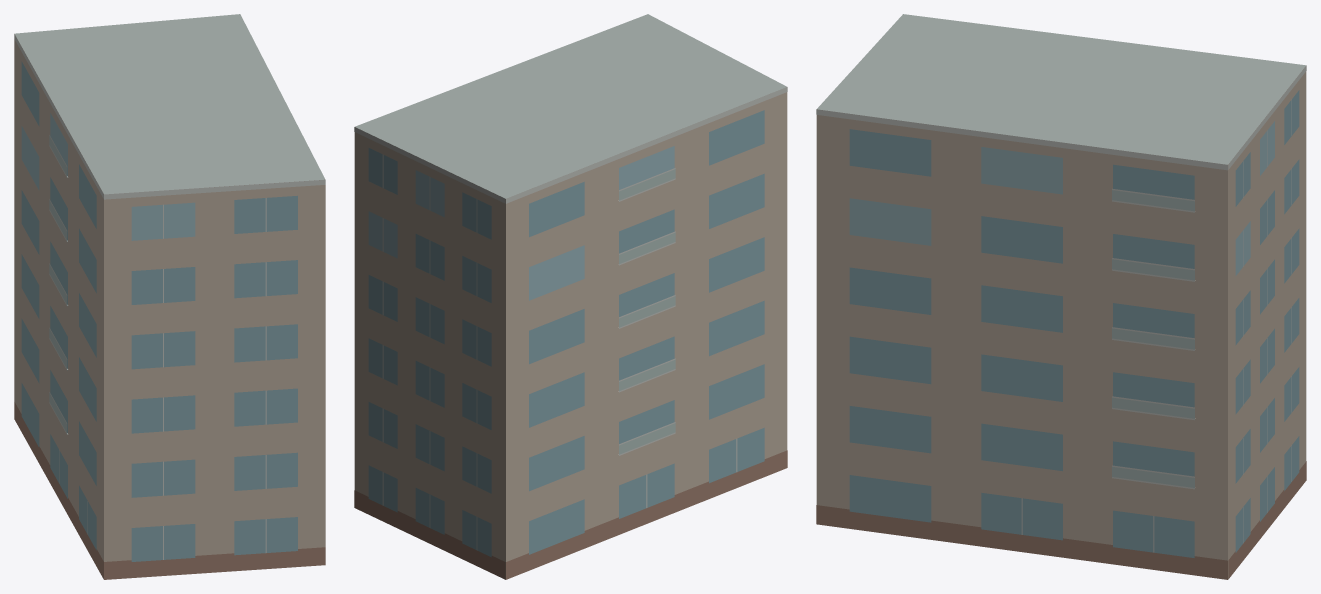
Rendered from survey-upis-32569732.glb.
3 renders of one model, left to right at view 1: azimuth 30°, elevation 25°; view 2: azimuth 150°, elevation 25°; view 3: azimuth 270°, elevation 25°, orthographic. The views are drawn at different scales.
Visible parts, largest first — view 1: survey-upis-32569732.tmp; view 2: survey-upis-32569732.tmp; view 3: survey-upis-32569732.tmp.
Boxes of the visible parts, bbox=[...] form: survey-upis-32569732.tmp: bbox=[14, 14, 325, 579]; survey-upis-32569732.tmp: bbox=[354, 14, 787, 579]; survey-upis-32569732.tmp: bbox=[816, 14, 1306, 579].
Size of the model in its own units: 14.27 by 18.3 by 19.59.
